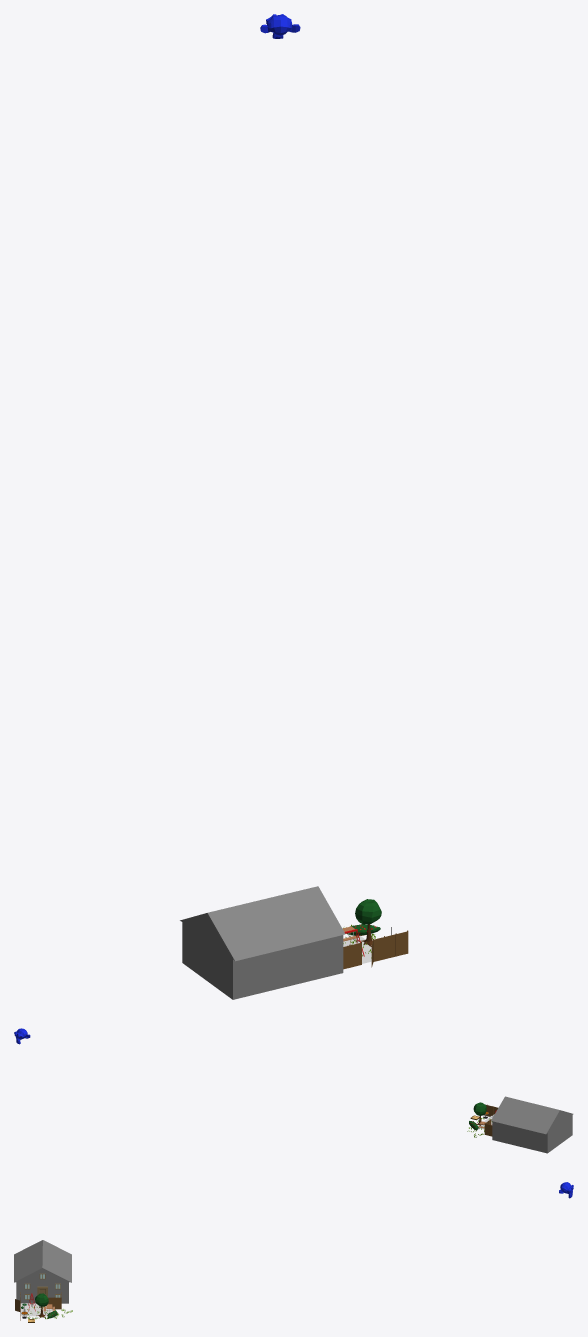
File: Have 1.fbx
3 renders of one model, top to bottom at view 1: azimuth 30°, elevation 25°; view 2: azimuth 150°, elevation 25°; view 3: azimuth 270°, elevation 25°, orthographic. The views are drawn at different scales.
Parts seen in each view (by area): view 1: Cube; view 2: Cube; view 3: Cube, Plane.002.
Boxes of the visible parts, x1,y1,x2,y2 form: Cube: [180, 886, 345, 999]; Cube: [491, 1096, 573, 1153]; Cube: [14, 1240, 71, 1303]; Plane.002: [20, 1303, 51, 1316].
Size of what is drawn, in the model's own units: 4580 by 3408 by 7243.
